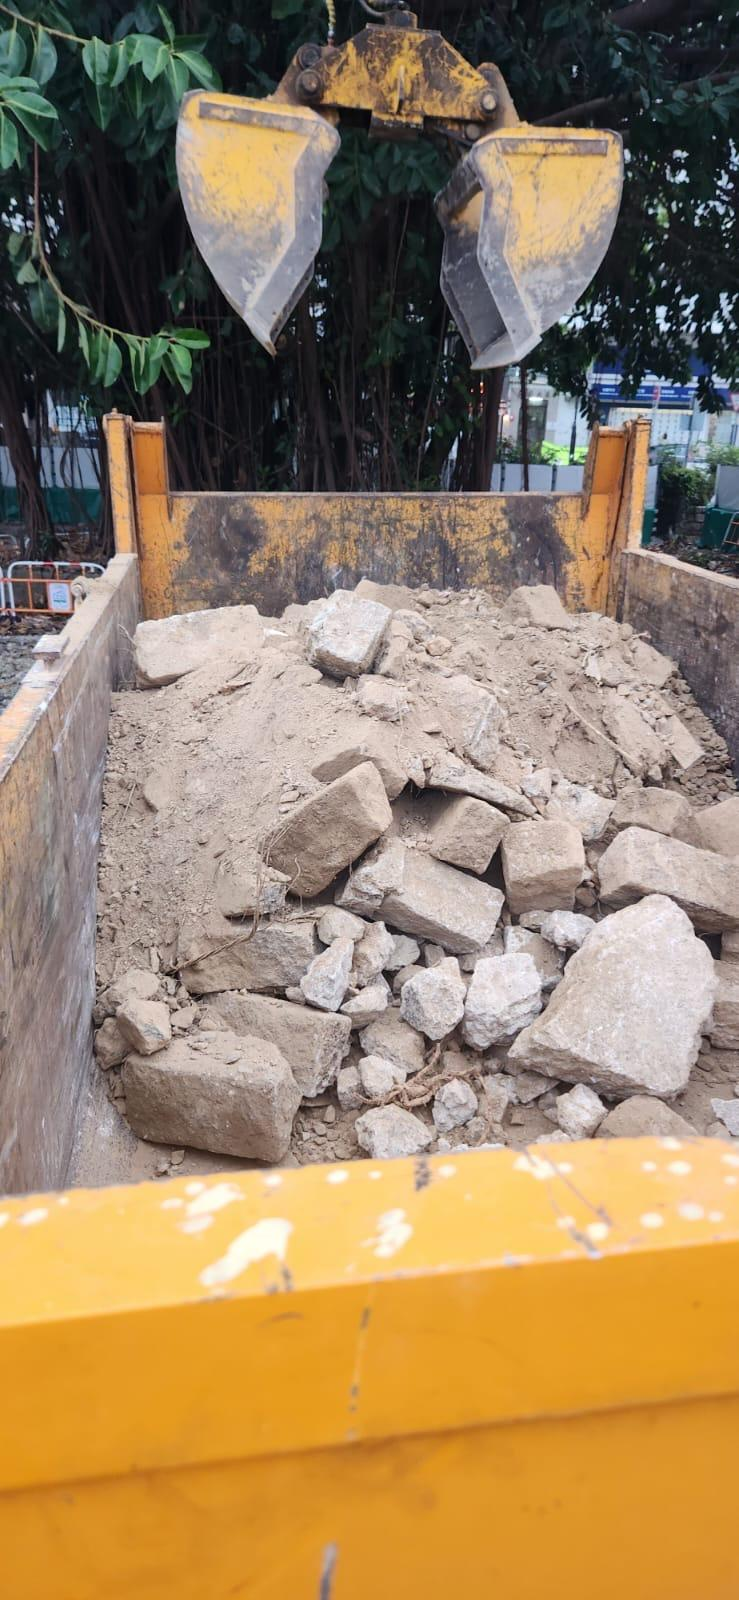dirt: (80, 576, 737, 1177)
stone: (505, 892, 717, 1099), (120, 1029, 302, 1162), (334, 834, 506, 952), (259, 758, 393, 899), (196, 989, 352, 1099), (595, 823, 737, 933), (499, 817, 586, 915), (461, 951, 543, 1051), (305, 588, 393, 678), (398, 955, 466, 1041), (114, 996, 172, 1055)
